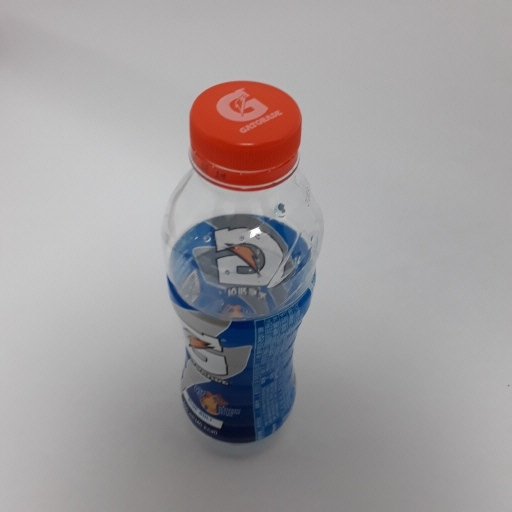Plastic_0: (162, 81, 325, 457)
